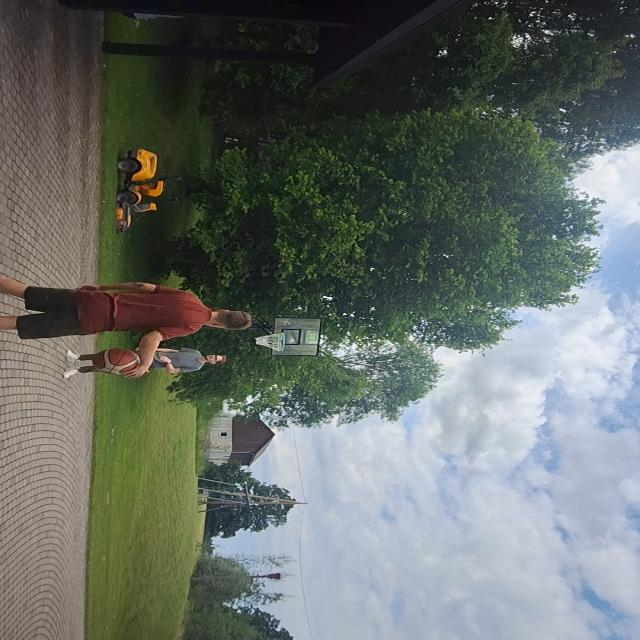ball: (95, 347, 141, 378)
hoop: (258, 331, 288, 355)
player: (0, 274, 255, 377), (59, 346, 227, 377)
